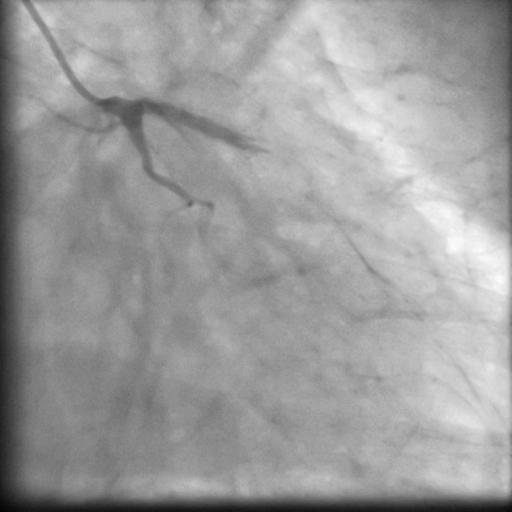Stenosis: (178, 180, 216, 214)
